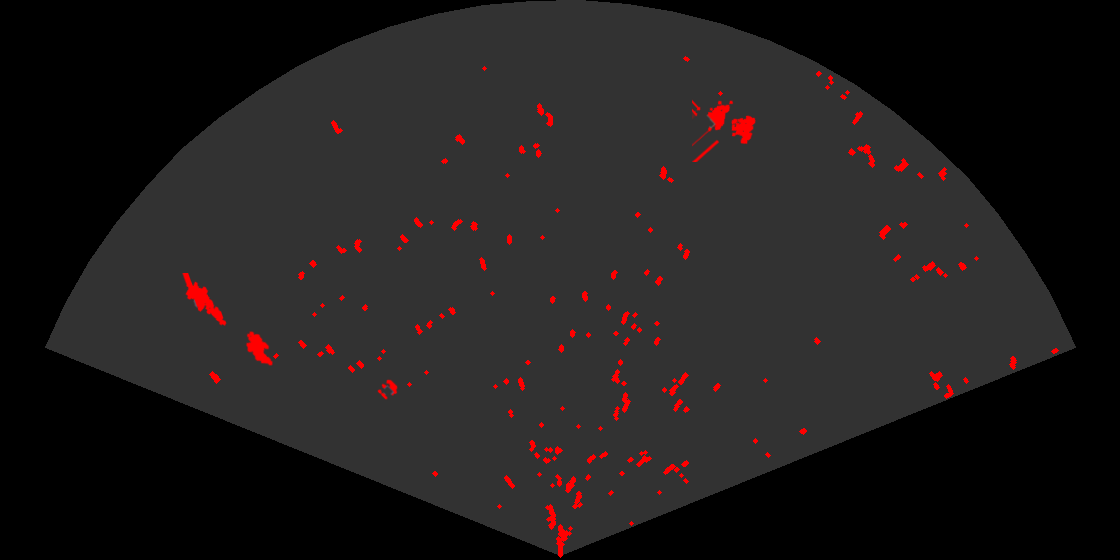AUV: (244, 329, 274, 367)
ball: (376, 378, 399, 401)
cage: (692, 98, 757, 162)
frogman: (181, 273, 228, 328)
